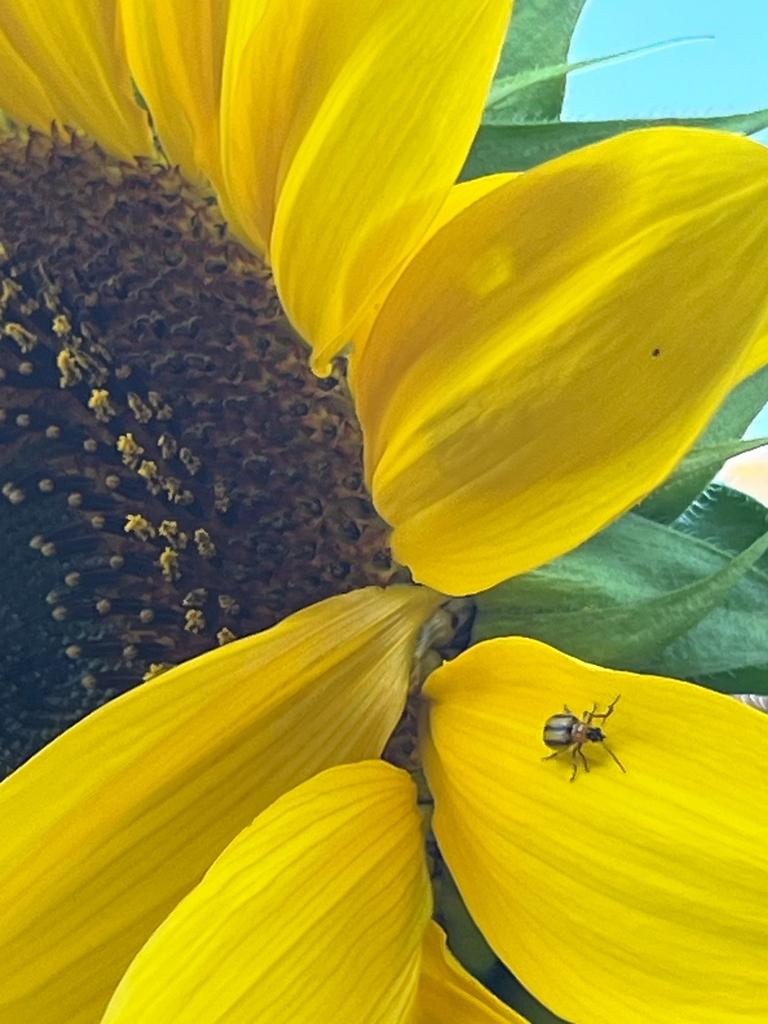potato_beetle: (514, 673, 647, 813)
